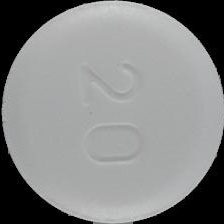13668-220: (0, 0, 224, 224)
